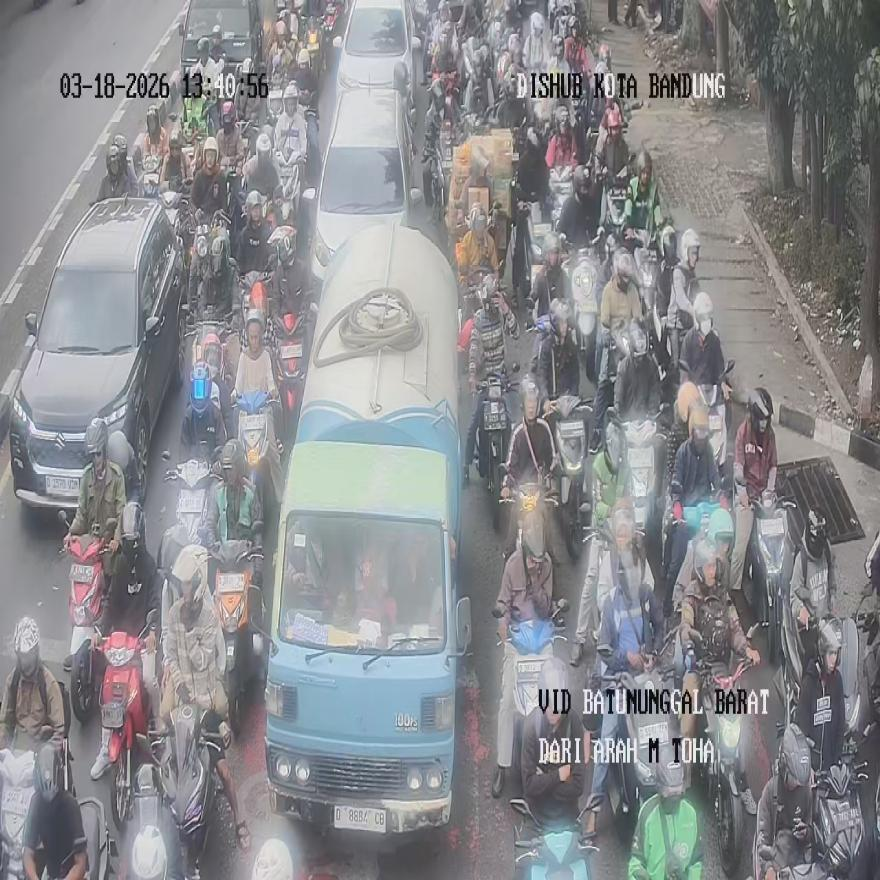Motor: (263, 223, 471, 844), (10, 198, 184, 511), (308, 88, 422, 304), (334, 0, 422, 128)
Truk: (687, 652, 763, 876), (594, 645, 679, 841), (778, 585, 861, 775), (491, 599, 568, 797), (96, 614, 158, 832), (57, 510, 112, 724), (0, 726, 74, 879), (209, 539, 264, 730), (162, 700, 220, 880), (605, 404, 668, 553), (744, 490, 793, 661), (665, 499, 733, 617), (545, 395, 591, 561), (473, 363, 518, 530), (511, 794, 599, 879), (677, 360, 734, 481), (810, 759, 867, 879), (233, 388, 283, 520), (498, 461, 557, 568), (162, 449, 222, 548), (124, 761, 170, 880), (571, 234, 604, 382), (752, 821, 830, 880), (511, 197, 546, 310), (274, 308, 306, 428), (238, 268, 271, 347), (548, 165, 576, 238), (321, 0, 345, 70), (139, 154, 161, 198)
